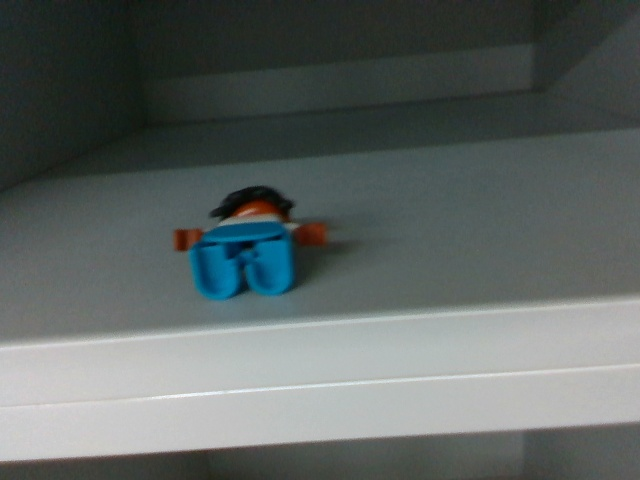people: (173, 187, 331, 296)
